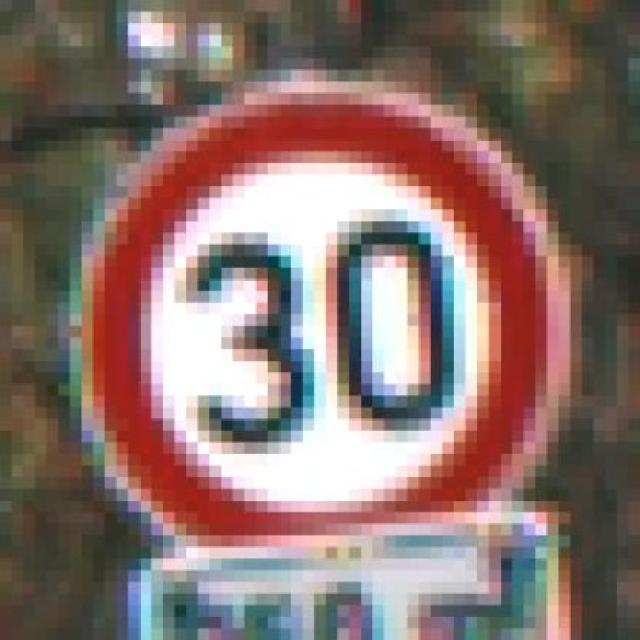Speed Limit 30 KMPh: (70, 46, 605, 571)
